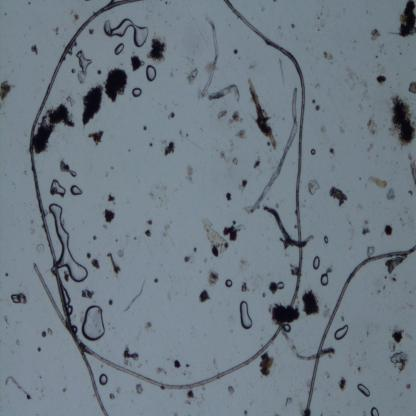Air bubble: (48, 203, 89, 285), (104, 18, 150, 49), (82, 303, 107, 342), (76, 48, 94, 77), (239, 300, 253, 332), (50, 178, 68, 198), (59, 160, 78, 177), (333, 322, 349, 340), (358, 382, 372, 399), (146, 63, 158, 82), (70, 184, 85, 198), (312, 255, 322, 271), (98, 373, 110, 386), (320, 272, 330, 287), (114, 42, 126, 54), (224, 278, 234, 290), (132, 87, 142, 98), (283, 323, 292, 334), (370, 406, 379, 416), (323, 233, 330, 245), (276, 281, 286, 289), (310, 148, 317, 156), (140, 61, 146, 66)
Background material: (246, 76, 278, 150), (33, 108, 75, 152), (202, 218, 243, 258), (388, 94, 416, 148), (81, 84, 104, 126), (342, 62, 368, 95), (106, 69, 129, 103), (389, 12, 416, 36), (268, 306, 301, 324), (147, 38, 169, 63), (302, 287, 319, 318), (389, 350, 410, 372), (330, 183, 350, 206), (120, 343, 140, 364), (106, 252, 121, 277), (0, 78, 15, 103), (366, 113, 380, 139), (260, 353, 274, 377), (368, 174, 390, 188), (390, 326, 406, 345), (89, 128, 104, 146), (10, 290, 28, 304), (206, 270, 221, 285), (229, 110, 245, 124), (32, 240, 46, 255), (199, 289, 213, 304), (80, 287, 95, 301), (337, 372, 348, 391), (163, 141, 176, 157), (277, 58, 285, 83), (185, 164, 195, 184), (186, 69, 200, 83), (308, 179, 320, 195), (218, 147, 229, 164), (103, 209, 114, 226), (268, 280, 278, 296), (289, 262, 299, 278), (323, 50, 335, 63), (365, 140, 376, 154), (132, 57, 142, 72), (384, 224, 394, 238), (410, 161, 416, 184), (408, 80, 416, 97), (70, 11, 82, 22), (91, 259, 102, 271), (144, 321, 155, 333), (31, 43, 40, 57), (370, 31, 381, 42), (155, 366, 167, 376), (366, 244, 376, 256), (284, 397, 294, 409), (240, 281, 248, 295), (171, 360, 182, 370), (226, 385, 235, 397), (376, 75, 388, 84), (183, 254, 195, 263), (388, 186, 395, 201), (135, 381, 142, 396), (324, 304, 331, 319), (362, 226, 372, 236), (239, 178, 249, 188), (236, 127, 245, 138), (252, 157, 260, 169), (224, 191, 234, 200), (68, 94, 76, 105), (380, 44, 388, 55), (62, 269, 68, 283), (321, 122, 328, 134), (338, 125, 346, 135), (167, 112, 177, 120), (326, 264, 334, 274), (328, 147, 338, 155), (107, 392, 116, 400), (106, 297, 114, 306), (406, 379, 412, 391), (116, 383, 123, 393), (107, 195, 117, 202), (390, 276, 398, 284), (232, 158, 240, 166), (152, 276, 160, 284), (145, 230, 153, 238), (362, 218, 370, 226), (187, 389, 195, 397), (88, 27, 95, 36), (355, 364, 362, 373), (4, 314, 9, 326), (250, 60, 256, 70), (147, 218, 154, 226), (56, 25, 60, 39), (41, 331, 48, 339), (233, 47, 239, 56), (36, 344, 42, 353), (314, 104, 321, 111), (60, 386, 67, 393), (71, 66, 77, 74), (142, 124, 148, 132), (47, 328, 53, 336), (118, 249, 124, 257), (366, 327, 370, 339), (243, 407, 248, 416), (30, 228, 37, 234), (316, 83, 322, 90), (183, 362, 190, 368), (291, 22, 296, 30), (408, 189, 413, 197), (383, 274, 389, 280), (149, 141, 154, 148), (28, 218, 33, 225), (86, 251, 90, 259), (382, 284, 386, 292), (98, 68, 102, 76), (92, 235, 97, 241), (315, 27, 321, 32), (261, 292, 266, 298), (5, 271, 9, 278), (114, 236, 118, 243), (340, 316, 344, 323), (180, 127, 183, 136), (173, 411, 178, 416), (315, 16, 320, 21), (312, 99, 316, 105), (358, 174, 362, 180), (186, 400, 190, 406), (193, 247, 197, 253), (105, 171, 109, 177), (267, 141, 271, 147), (16, 340, 20, 345), (398, 52, 403, 56), (185, 133, 189, 137), (374, 55, 379, 58), (294, 224, 297, 229), (165, 1, 168, 5), (274, 0, 278, 2)
Cellulose filter fibre: (242, 87, 298, 214), (261, 204, 314, 249), (279, 328, 335, 360), (199, 15, 220, 100), (120, 275, 147, 314), (2, 375, 34, 402), (206, 83, 243, 103)
Microfibre: (25, 1, 308, 392), (30, 0, 138, 414), (303, 243, 416, 414)
